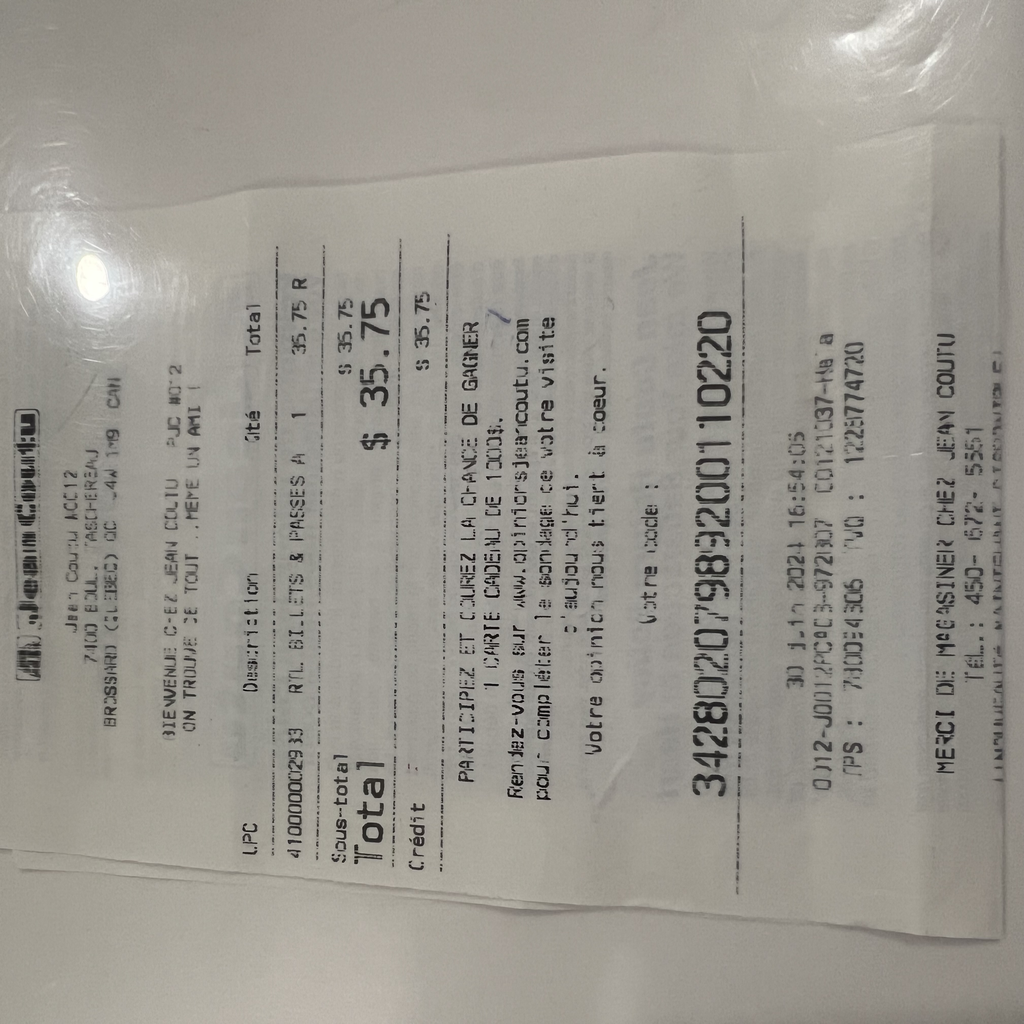recipt: (0, 118, 1003, 948)
